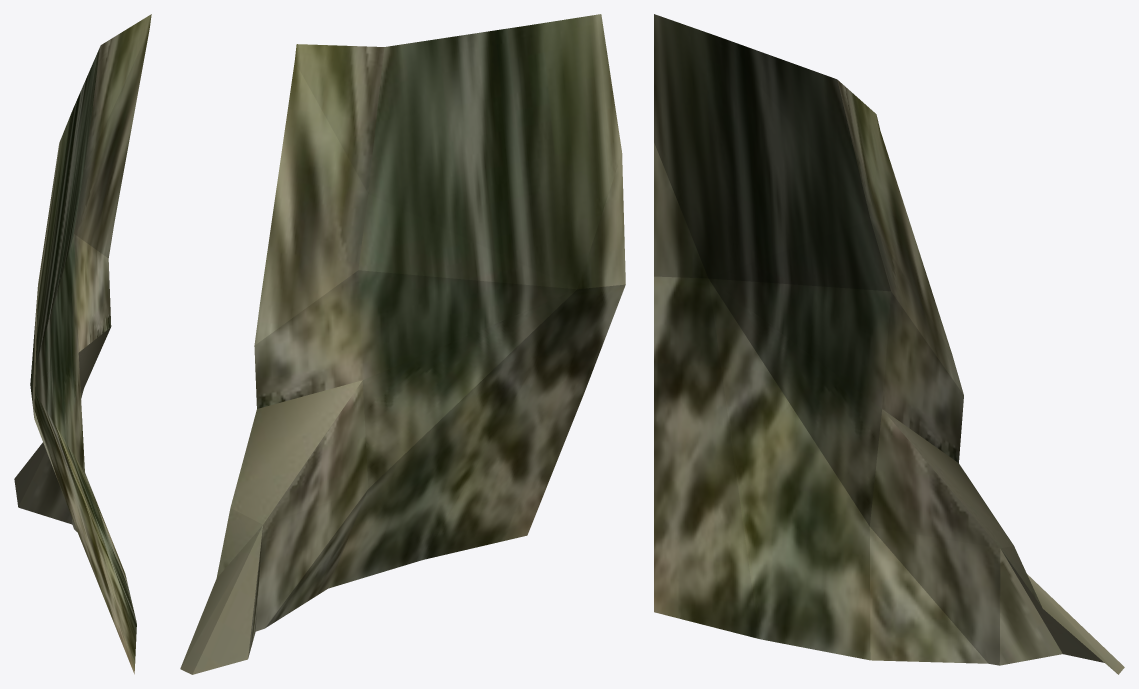
The picture shows the model from 3 angles, left to right: view 1: azimuth 30°, elevation 25°; view 2: azimuth 150°, elevation 25°; view 3: azimuth 270°, elevation 25°; orthographic projection. The views are drawn at different scales.
Bounding box in the file's own units: 1.27 × 2.95 × 2.24.
2 materials, 2 textured.
